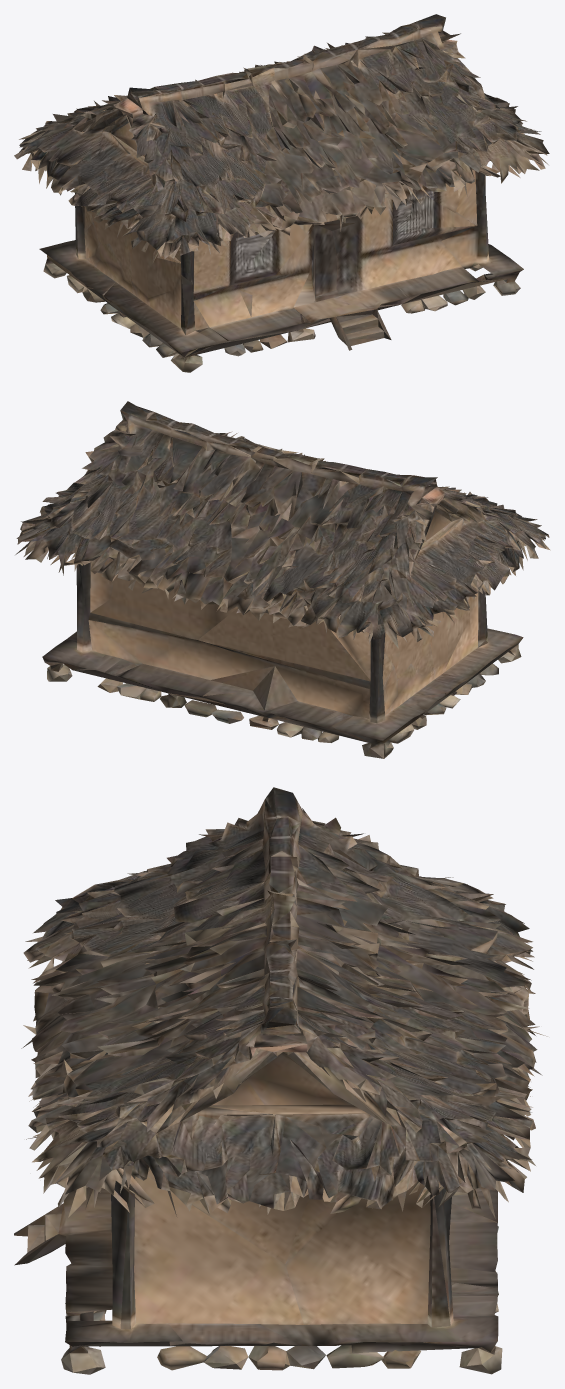
File: choga.glb
3 renders of one model, top to bottom at view 1: azimuth 30°, elevation 25°; view 2: azimuth 150°, elevation 25°; view 3: azimuth 270°, elevation 25°, orthographic. The views are drawn at different scales.
Parts seen in each view (by area): view 1: Mesh_0; view 2: Mesh_0; view 3: Mesh_0.
Part boxes in pixels (bbox=[...]): Mesh_0: bbox=[14, 14, 549, 372]; Mesh_0: bbox=[15, 401, 550, 758]; Mesh_0: bbox=[14, 787, 547, 1374].
Size of the model in its own units: 7.73 by 4 by 5.58.
1 material, 1 textured.
